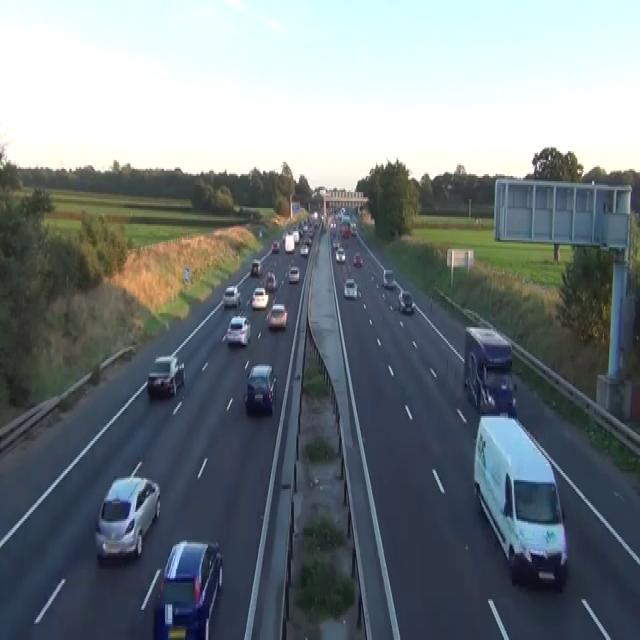Car: (156, 539, 223, 638), (94, 460, 160, 560), (153, 603, 209, 638), (244, 363, 277, 414), (147, 354, 185, 398), (225, 314, 251, 346), (266, 302, 287, 329), (222, 284, 241, 308), (251, 286, 269, 310), (398, 290, 414, 313), (343, 277, 358, 299), (265, 270, 276, 292), (382, 268, 394, 288), (288, 265, 299, 283), (251, 258, 262, 276), (335, 245, 345, 263), (284, 235, 294, 252), (353, 250, 362, 266), (299, 244, 308, 256), (341, 226, 350, 238), (341, 215, 350, 226), (271, 240, 279, 252), (292, 230, 299, 243), (332, 238, 340, 249), (304, 235, 312, 245), (350, 222, 356, 235), (330, 219, 336, 229), (282, 231, 287, 242), (258, 228, 262, 236)
Truck: (473, 412, 568, 590), (463, 324, 515, 414)
